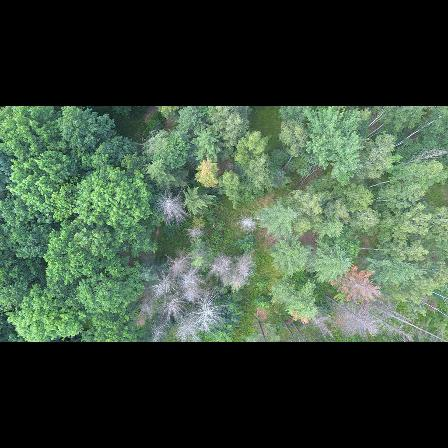Dead: (372, 306, 436, 339), (322, 295, 373, 332), (154, 194, 189, 226), (195, 292, 227, 327), (174, 312, 203, 341), (234, 208, 259, 238), (148, 272, 176, 296), (232, 252, 256, 278), (178, 286, 206, 306), (163, 298, 186, 321), (149, 317, 169, 342), (209, 256, 233, 276), (179, 273, 202, 289), (184, 225, 208, 240), (166, 257, 186, 274)
